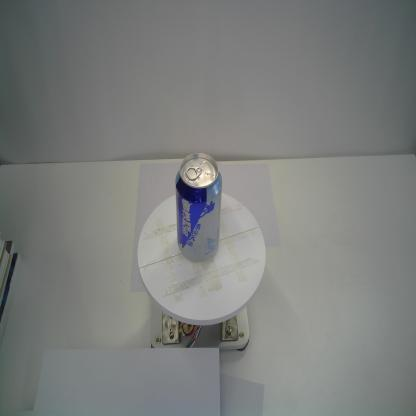Alcohol: (174, 152, 223, 264)
